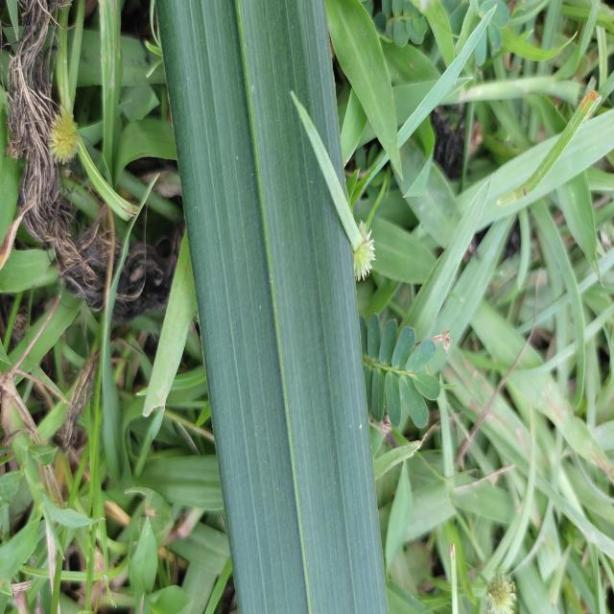Healthy: (158, 3, 391, 614)
